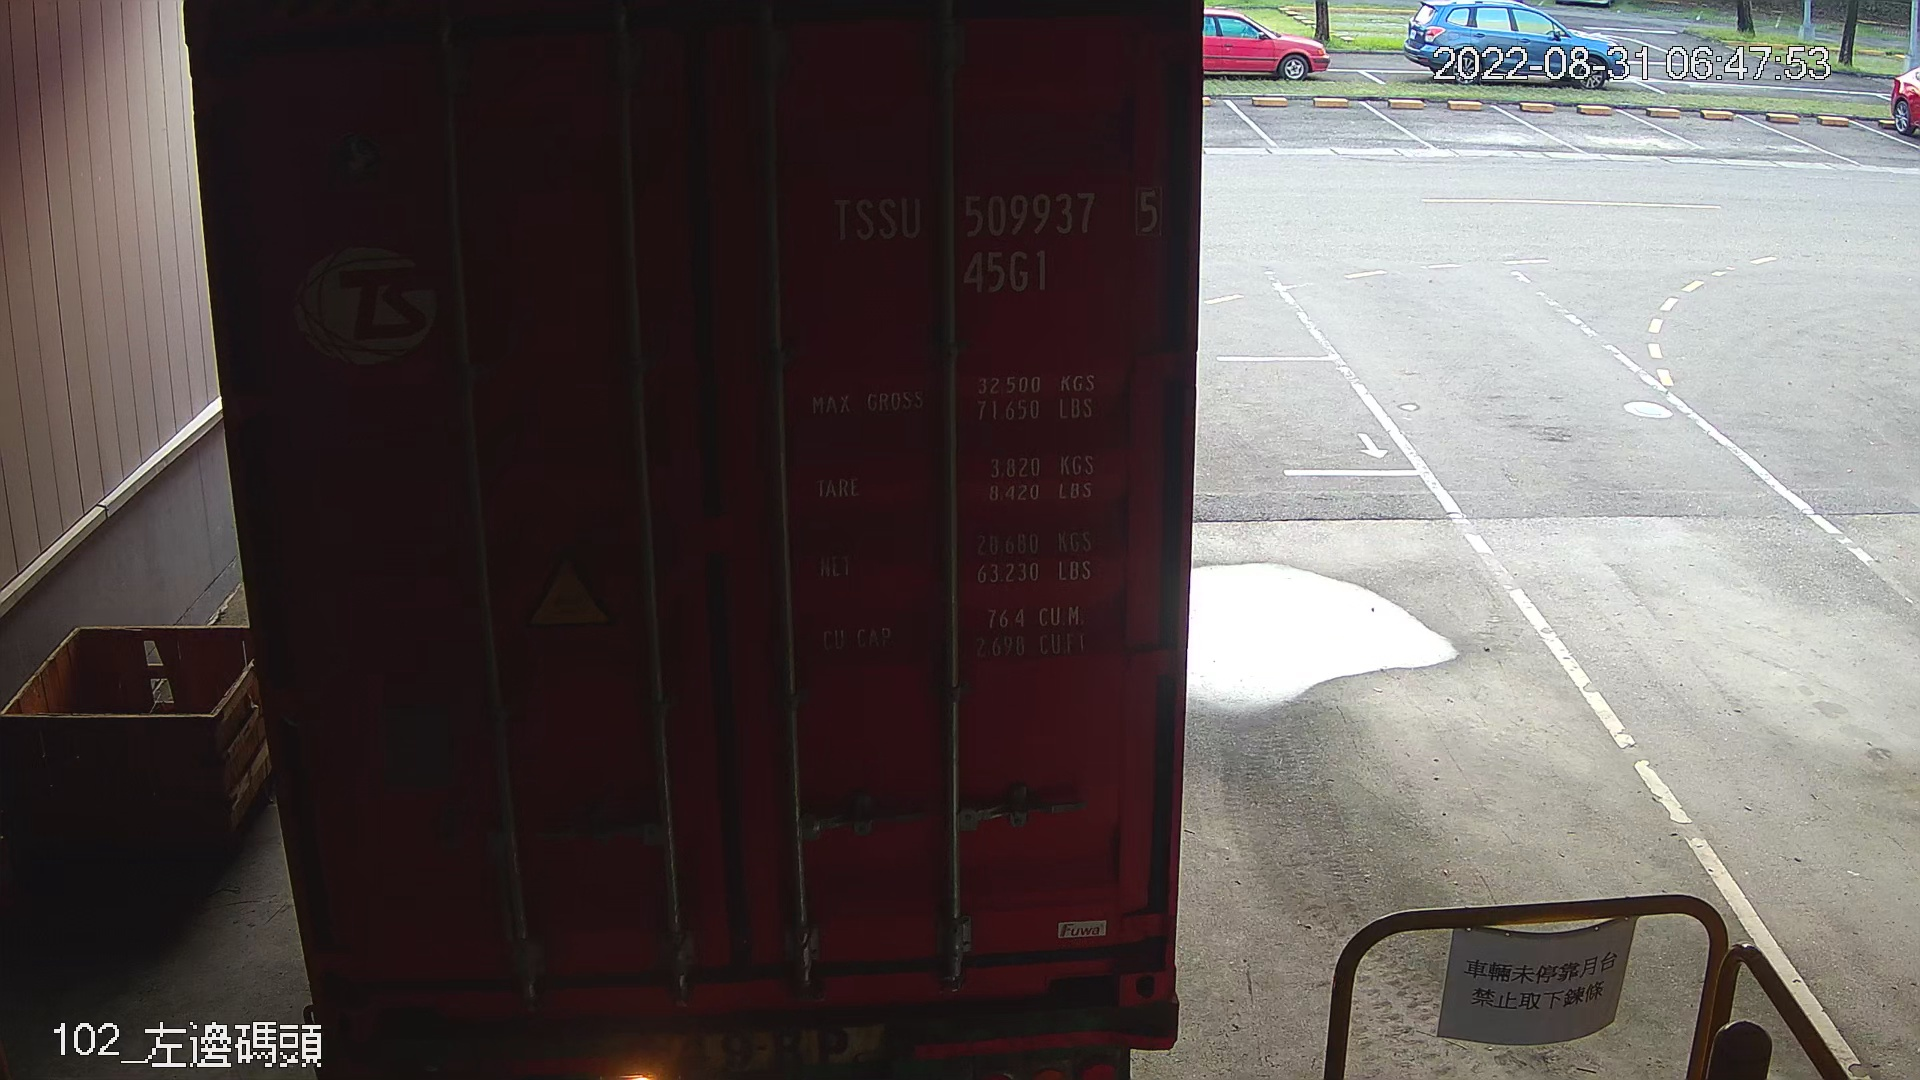container: (819, 179, 1172, 301)
